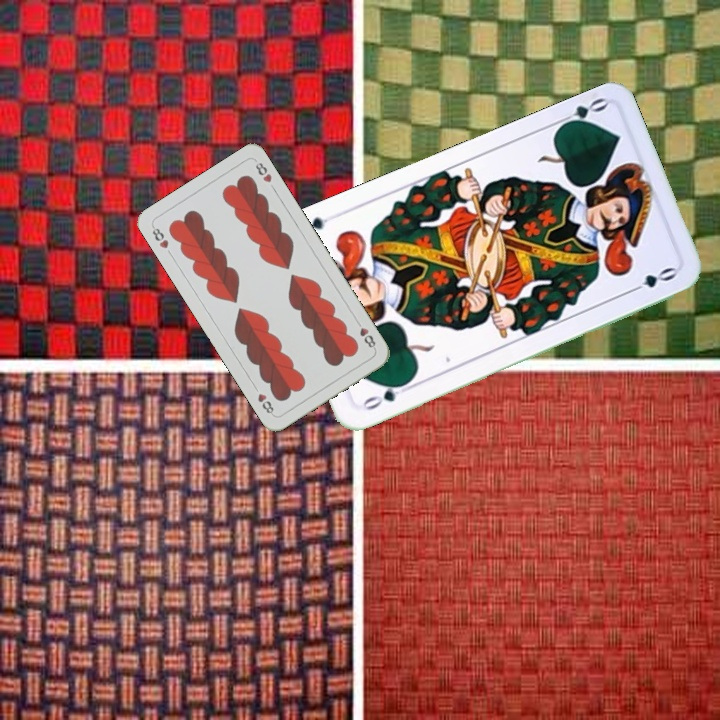GO: (552, 93, 609, 132), (358, 378, 413, 413)
H8: (351, 316, 378, 352), (148, 222, 171, 251)
